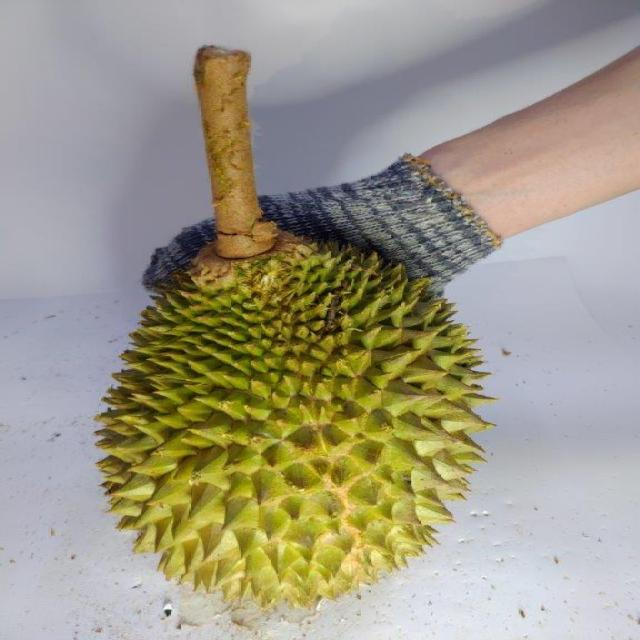immature: (102, 233, 478, 603)
